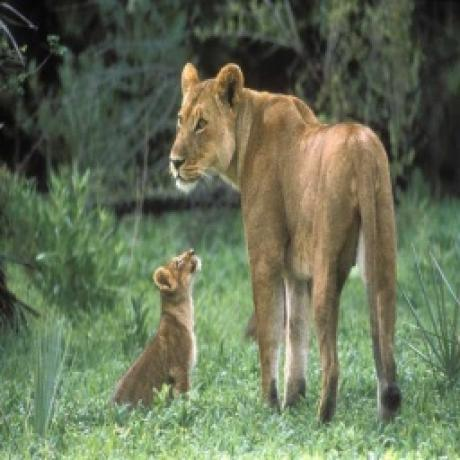Lion: (170, 57, 415, 423), (110, 248, 202, 405)
